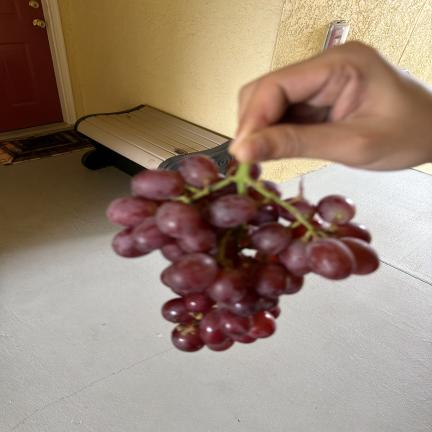grape_cluster: (107, 153, 379, 352)
